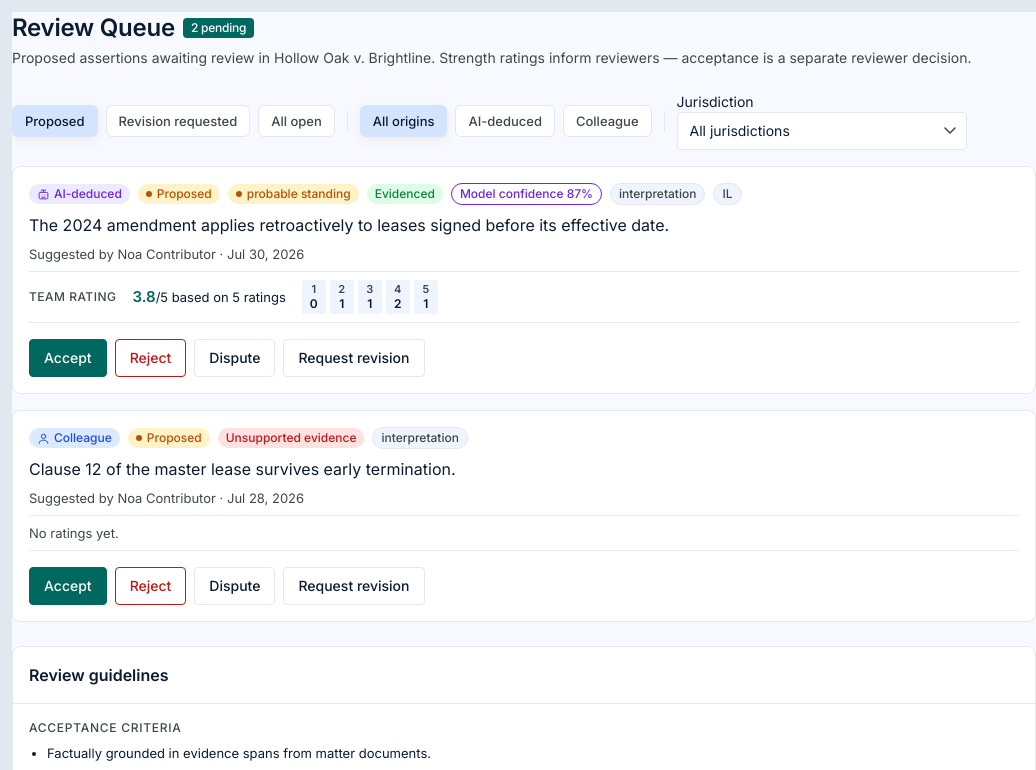
Test: ReviewQueuePage › surfaces a friendly message when a review action returns 403
The width and height of the screenshot is (1036, 770).
Expected: the link "The 2024 amendment applies retroactively to leases signed before its effective date." is shown, [29,215,669,235]
Click the button "Reject" below "3.8" at (150, 358), box [115,339,186,377]
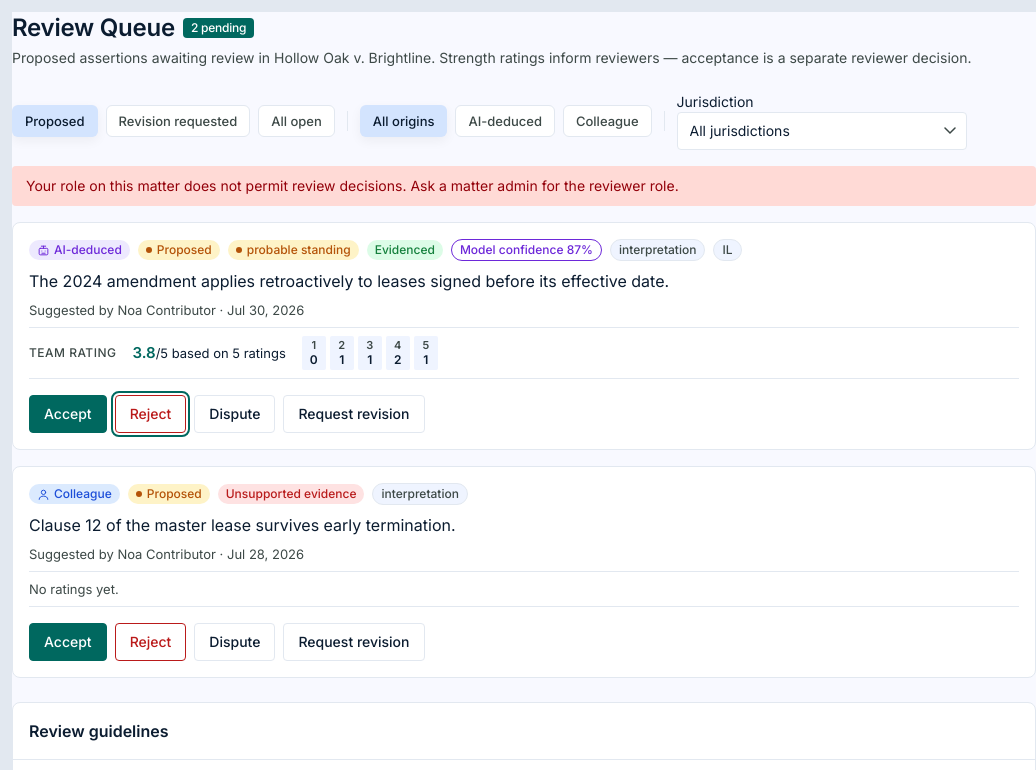
Now the text "does not permit review decisions" is shown, box [26,177,679,194]
